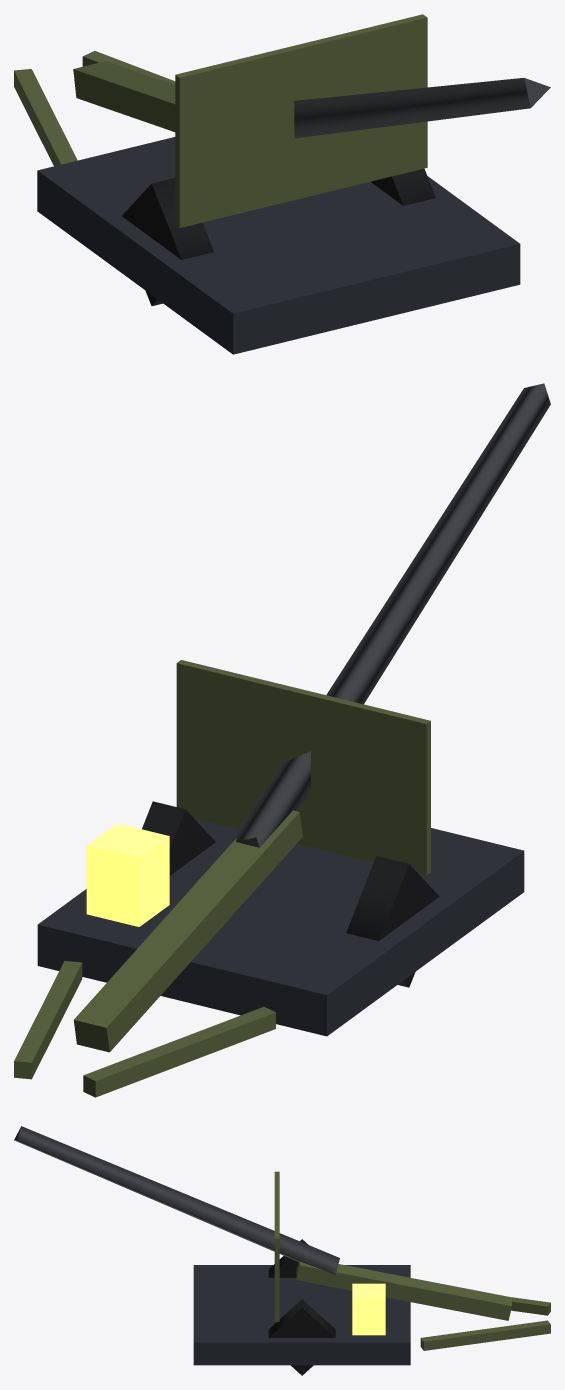
File: unit_mil_gun_a08_lod2.glb
3 views of the same model, one above another, from view 1: azimuth 30°, elevation 25°; view 2: azimuth 150°, elevation 25°; view 3: azimuth 270°, elevation 25° (orthographic). The views are drawn at different scales.
Visible parts, largest first — view 1: body, barrel, wheel_0, wheel_1; view 2: body, barrel, wheel_0, wheel_1; view 3: body, barrel, wheel_1, wheel_0.
Part boxes in pixels (bbox=[...]): body: bbox=[14, 14, 520, 354]; barrel: bbox=[294, 78, 550, 138]; wheel_0: bbox=[122, 178, 213, 305]; wheel_1: bbox=[370, 168, 435, 205]; body: bbox=[14, 660, 524, 1097]; barrel: bbox=[231, 383, 550, 847]; wheel_0: bbox=[346, 856, 439, 987]; wheel_1: bbox=[142, 801, 215, 875]; body: bbox=[193, 1171, 550, 1365]; barrel: bbox=[14, 1126, 339, 1274]; wheel_1: bbox=[268, 1299, 335, 1375]; wheel_0: bbox=[268, 1239, 308, 1277].
Size of the model in its own units: 2.2 by 2.82 by 6.43.
